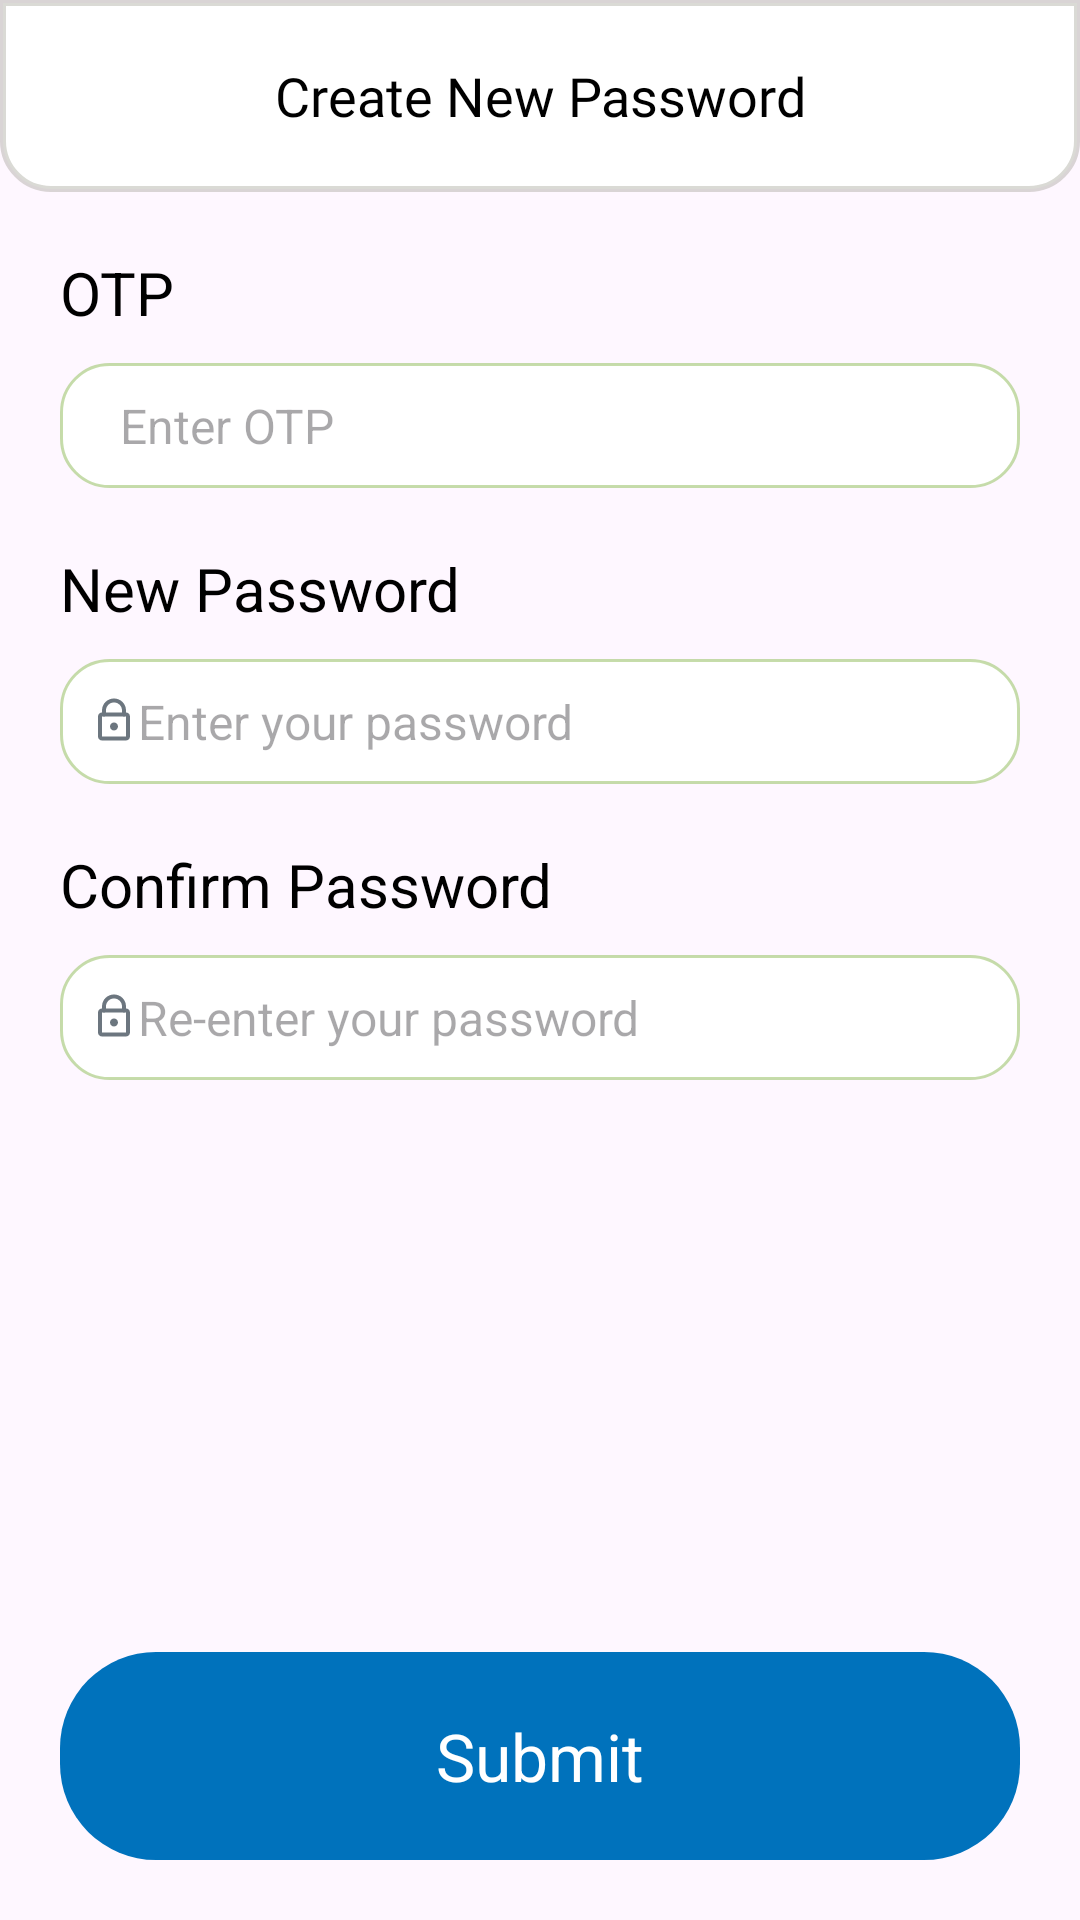

Where to tap for icons on this 1080w x 1920h app screen, as (x=x, y=y):
lock closed: (x=114, y=719), (x=114, y=1015)
